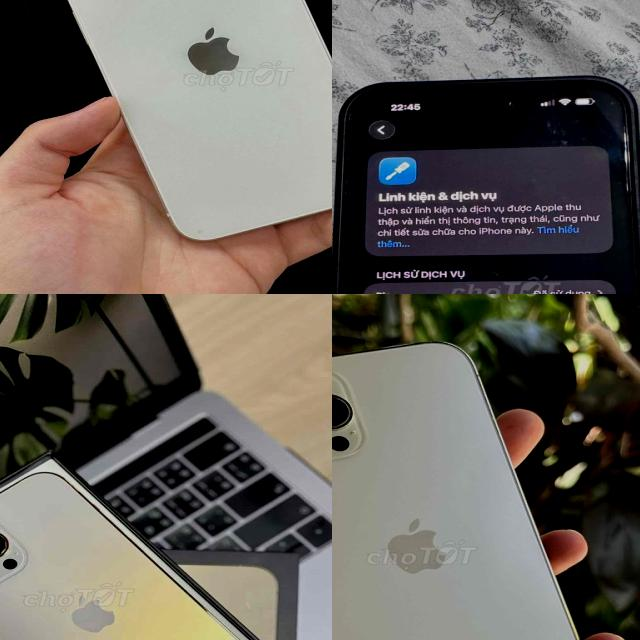gen_12_13: (332, 336, 612, 640), (0, 475, 291, 640)
gen_14: (35, 0, 332, 249), (332, 71, 640, 294)
